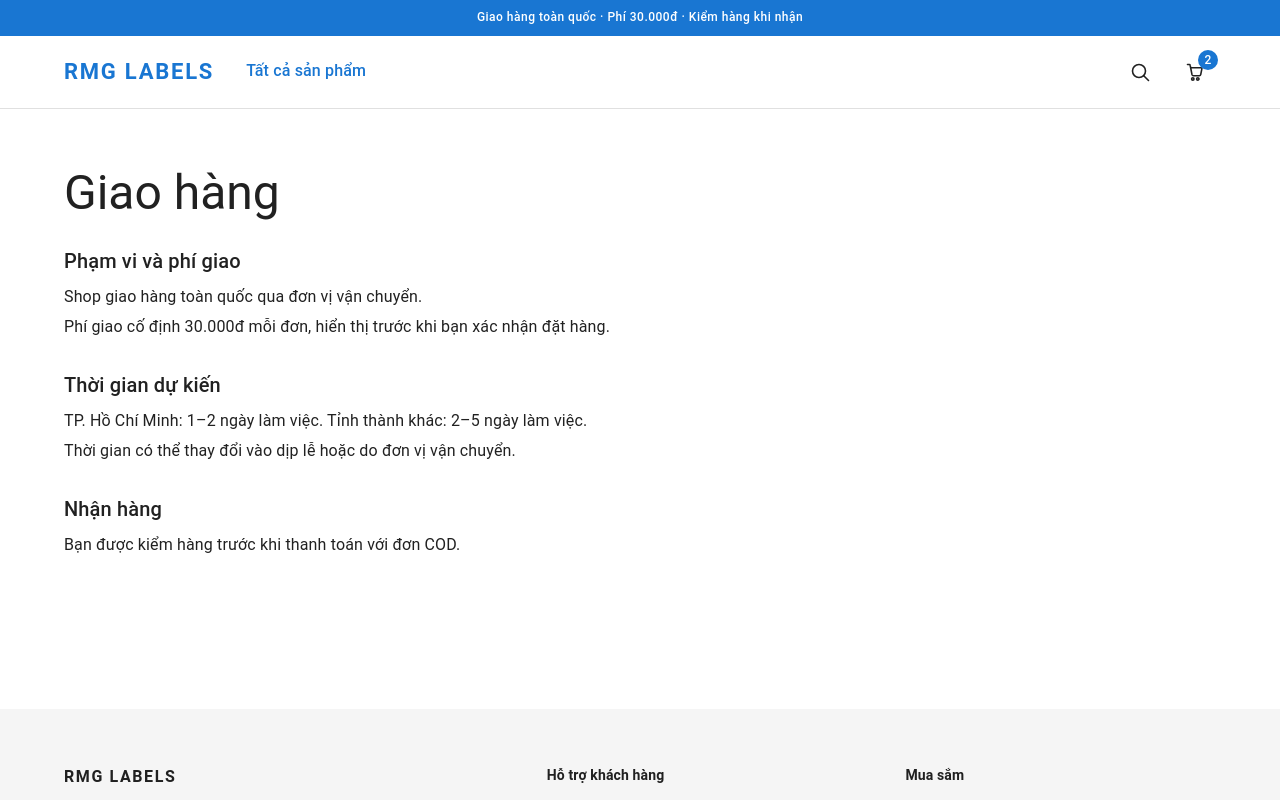
Test: store layout of the real shop › counts the saved pieces in the header badge and resolves them when the drawer opens
This screenshot has width=1280, height=800.
Click the button named "Giỏ hàng: 2 sản phẩm": coordinates (1196, 72) [1176, 52, 1216, 92]
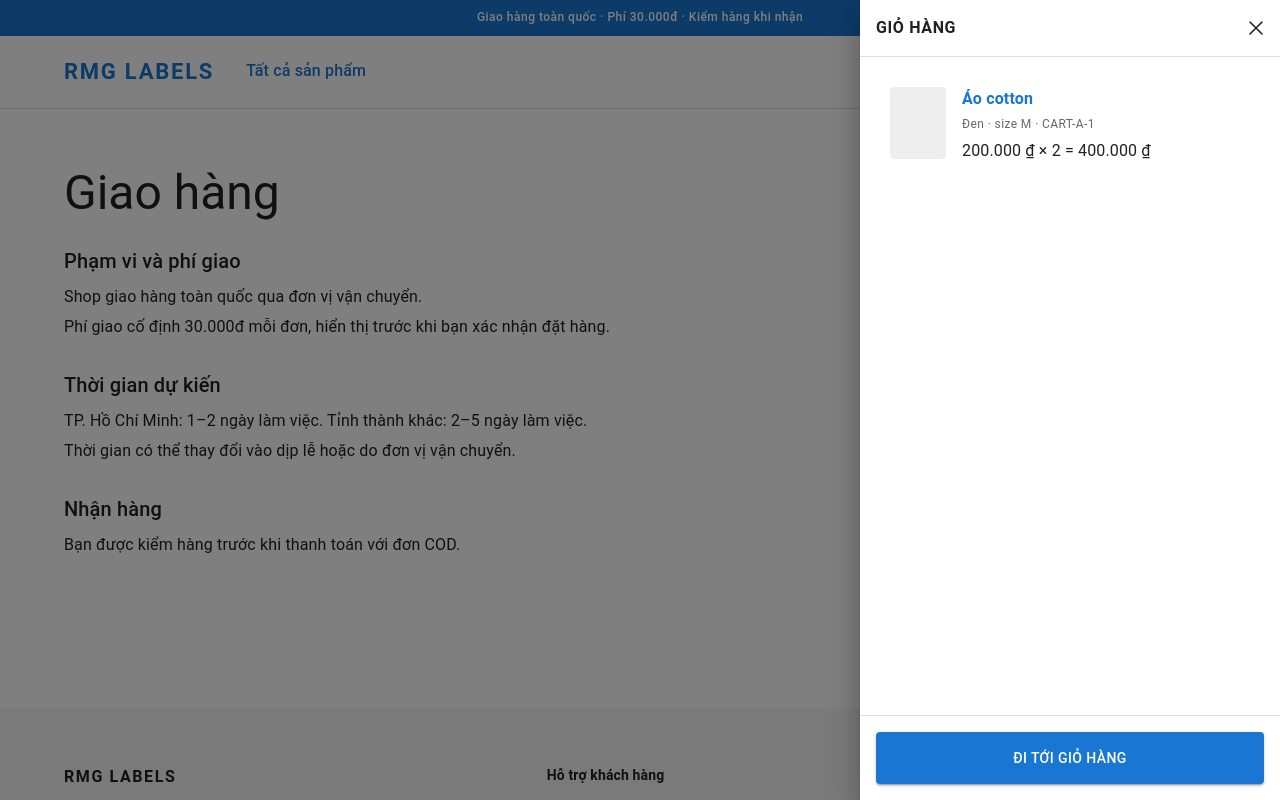
Expected: the link "Áo cotton" is shown, [962, 89, 1033, 108]
